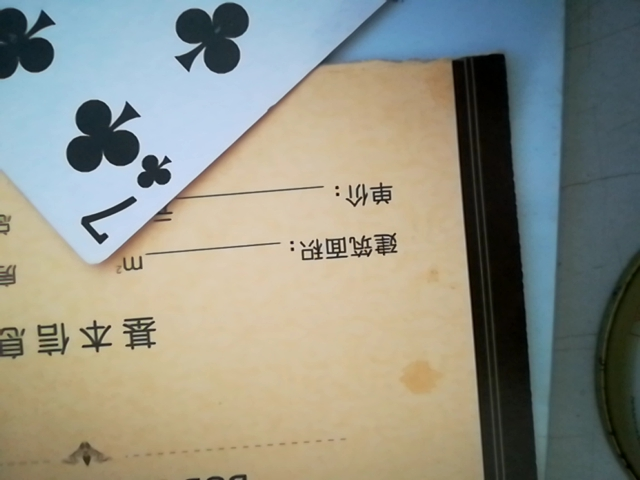mh 7: (2, 0, 442, 267)
